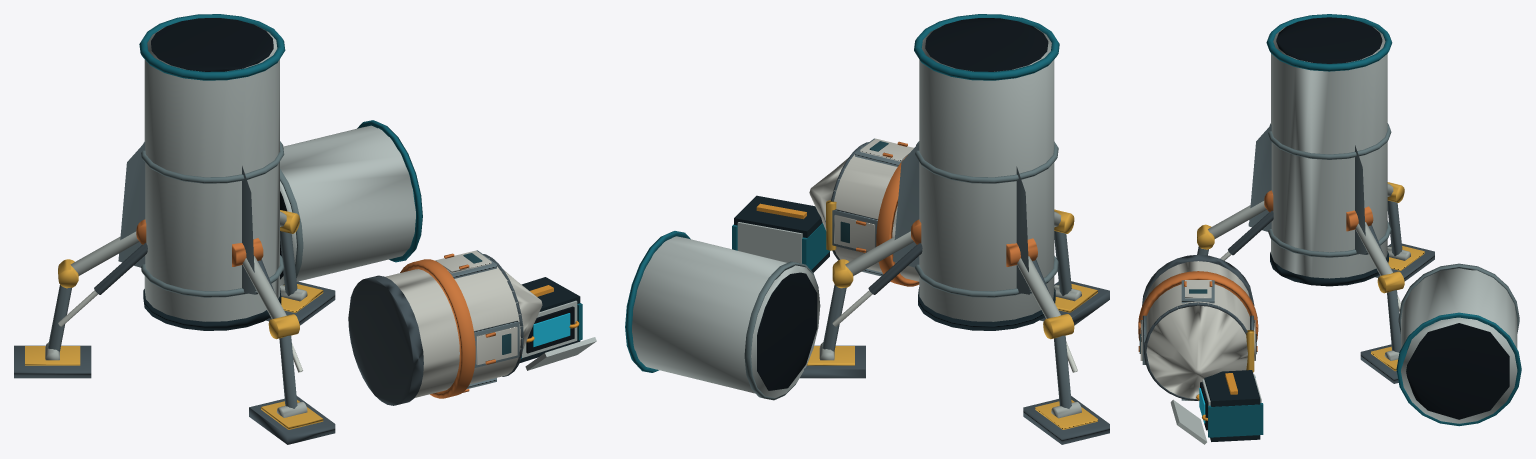
File: sh02_salvage_layout_stage1_lod1.glb
3 renders of one model, left to right at view 1: azimuth 30°, elevation 25°; view 2: azimuth 150°, elevation 25°; view 3: azimuth 270°, elevation 25°, orthographic. The views are drawn at different scales.
Parts seen in each view (by area): view 1: SH02_SALVAGE_GEOMETRY_00_LANDING, SH02_SALVAGE_GEOMETRY_02_CAPSULE, SH02_SALVAGE_GEOMETRY_01_TANK, SH02_SALVAGE_GEOMETRY_03_ISAO_MODULE; view 2: SH02_SALVAGE_GEOMETRY_00_LANDING, SH02_SALVAGE_GEOMETRY_01_TANK, SH02_SALVAGE_GEOMETRY_02_CAPSULE, SH02_SALVAGE_GEOMETRY_03_ISAO_MODULE; view 3: SH02_SALVAGE_GEOMETRY_00_LANDING, SH02_SALVAGE_GEOMETRY_01_TANK, SH02_SALVAGE_GEOMETRY_02_CAPSULE, SH02_SALVAGE_GEOMETRY_03_ISAO_MODULE.
Part boxes in pixels (bbox=[...]): SH02_SALVAGE_GEOMETRY_00_LANDING: bbox=[14, 14, 335, 444]; SH02_SALVAGE_GEOMETRY_02_CAPSULE: bbox=[348, 250, 542, 405]; SH02_SALVAGE_GEOMETRY_01_TANK: bbox=[280, 120, 422, 284]; SH02_SALVAGE_GEOMETRY_03_ISAO_MODULE: bbox=[519, 277, 596, 370]; SH02_SALVAGE_GEOMETRY_00_LANDING: bbox=[800, 14, 1109, 444]; SH02_SALVAGE_GEOMETRY_01_TANK: bbox=[625, 231, 820, 400]; SH02_SALVAGE_GEOMETRY_02_CAPSULE: bbox=[809, 138, 919, 286]; SH02_SALVAGE_GEOMETRY_03_ISAO_MODULE: bbox=[732, 195, 830, 272]; SH02_SALVAGE_GEOMETRY_00_LANDING: bbox=[1197, 14, 1434, 383]; SH02_SALVAGE_GEOMETRY_01_TANK: bbox=[1396, 263, 1521, 426]; SH02_SALVAGE_GEOMETRY_02_CAPSULE: bbox=[1138, 254, 1258, 400]; SH02_SALVAGE_GEOMETRY_03_ISAO_MODULE: bbox=[1170, 370, 1263, 444].
Size of the model in its own units: 15.66 by 10.7 by 13.16.
